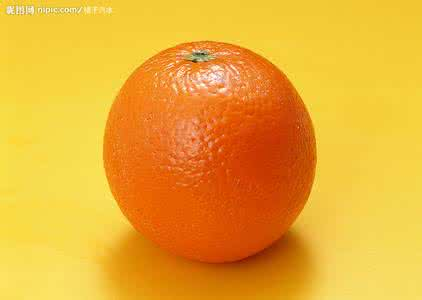orange: (98, 35, 319, 260)
